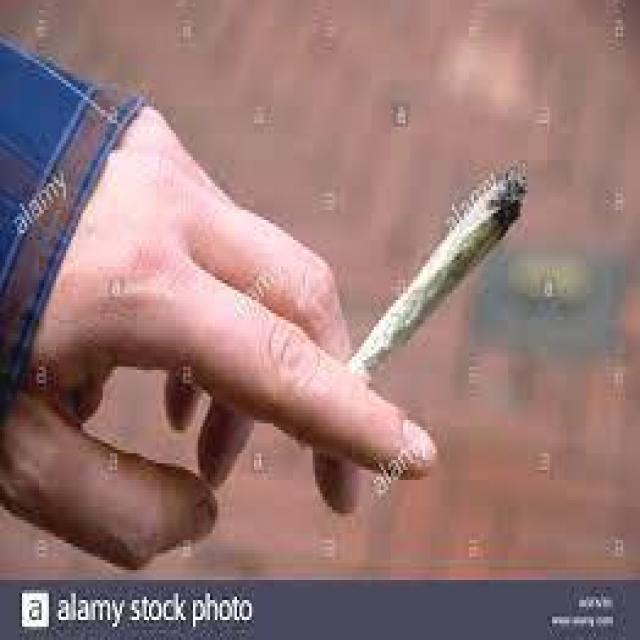smoke: (347, 164, 530, 384)
